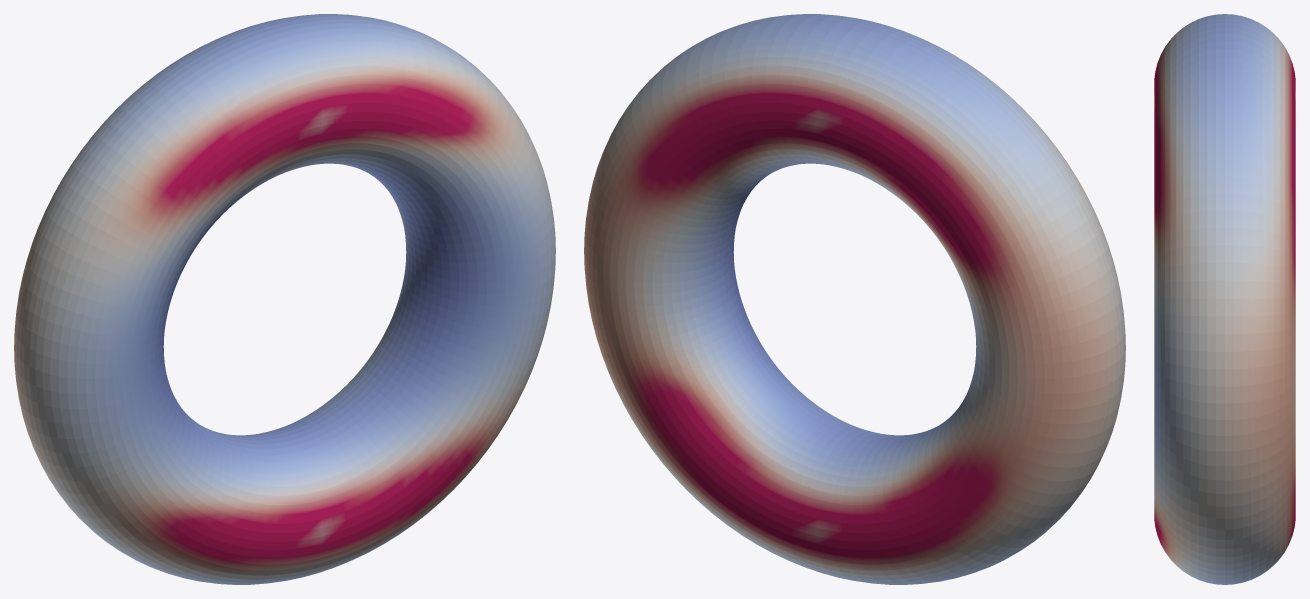
3 renders of one model, left to right at view 1: azimuth 30°, elevation 25°; view 2: azimuth 150°, elevation 25°; view 3: azimuth 270°, elevation 25°, orthographic. The views are drawn at different scales.
Parts seen in each view (by area): view 1: world; view 2: world; view 3: world.
Boxes of the visible parts, <box> form: world: <box>14,14,555,584</box>; world: <box>584,14,1125,584</box>; world: <box>1154,14,1295,584</box>.
Size of the model in its own units: 23.07 by 23.07 by 5.72.
